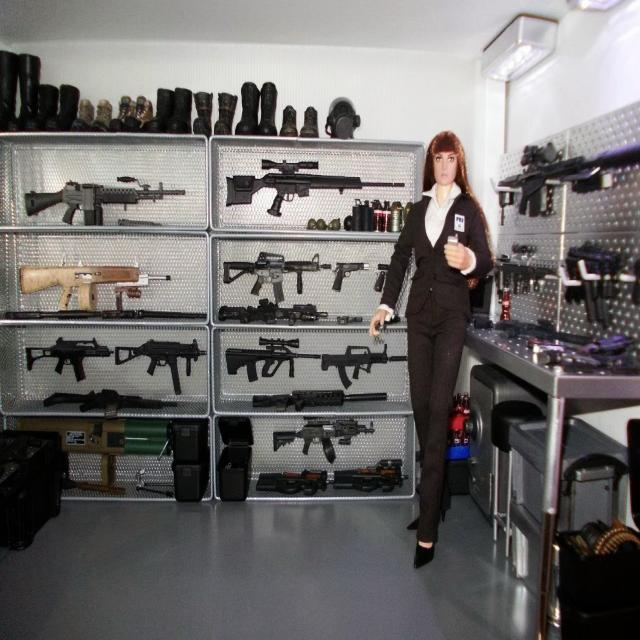HandGun: (332, 262, 369, 292)
Rifle: (498, 142, 640, 217), (226, 160, 406, 217), (224, 252, 324, 303), (273, 420, 375, 464), (226, 337, 321, 383), (321, 344, 407, 390), (26, 337, 110, 382), (43, 389, 178, 412), (219, 301, 319, 325)
SMG: (115, 339, 200, 395), (334, 460, 402, 492), (256, 470, 324, 496)
ShotGun: (20, 265, 166, 311)
